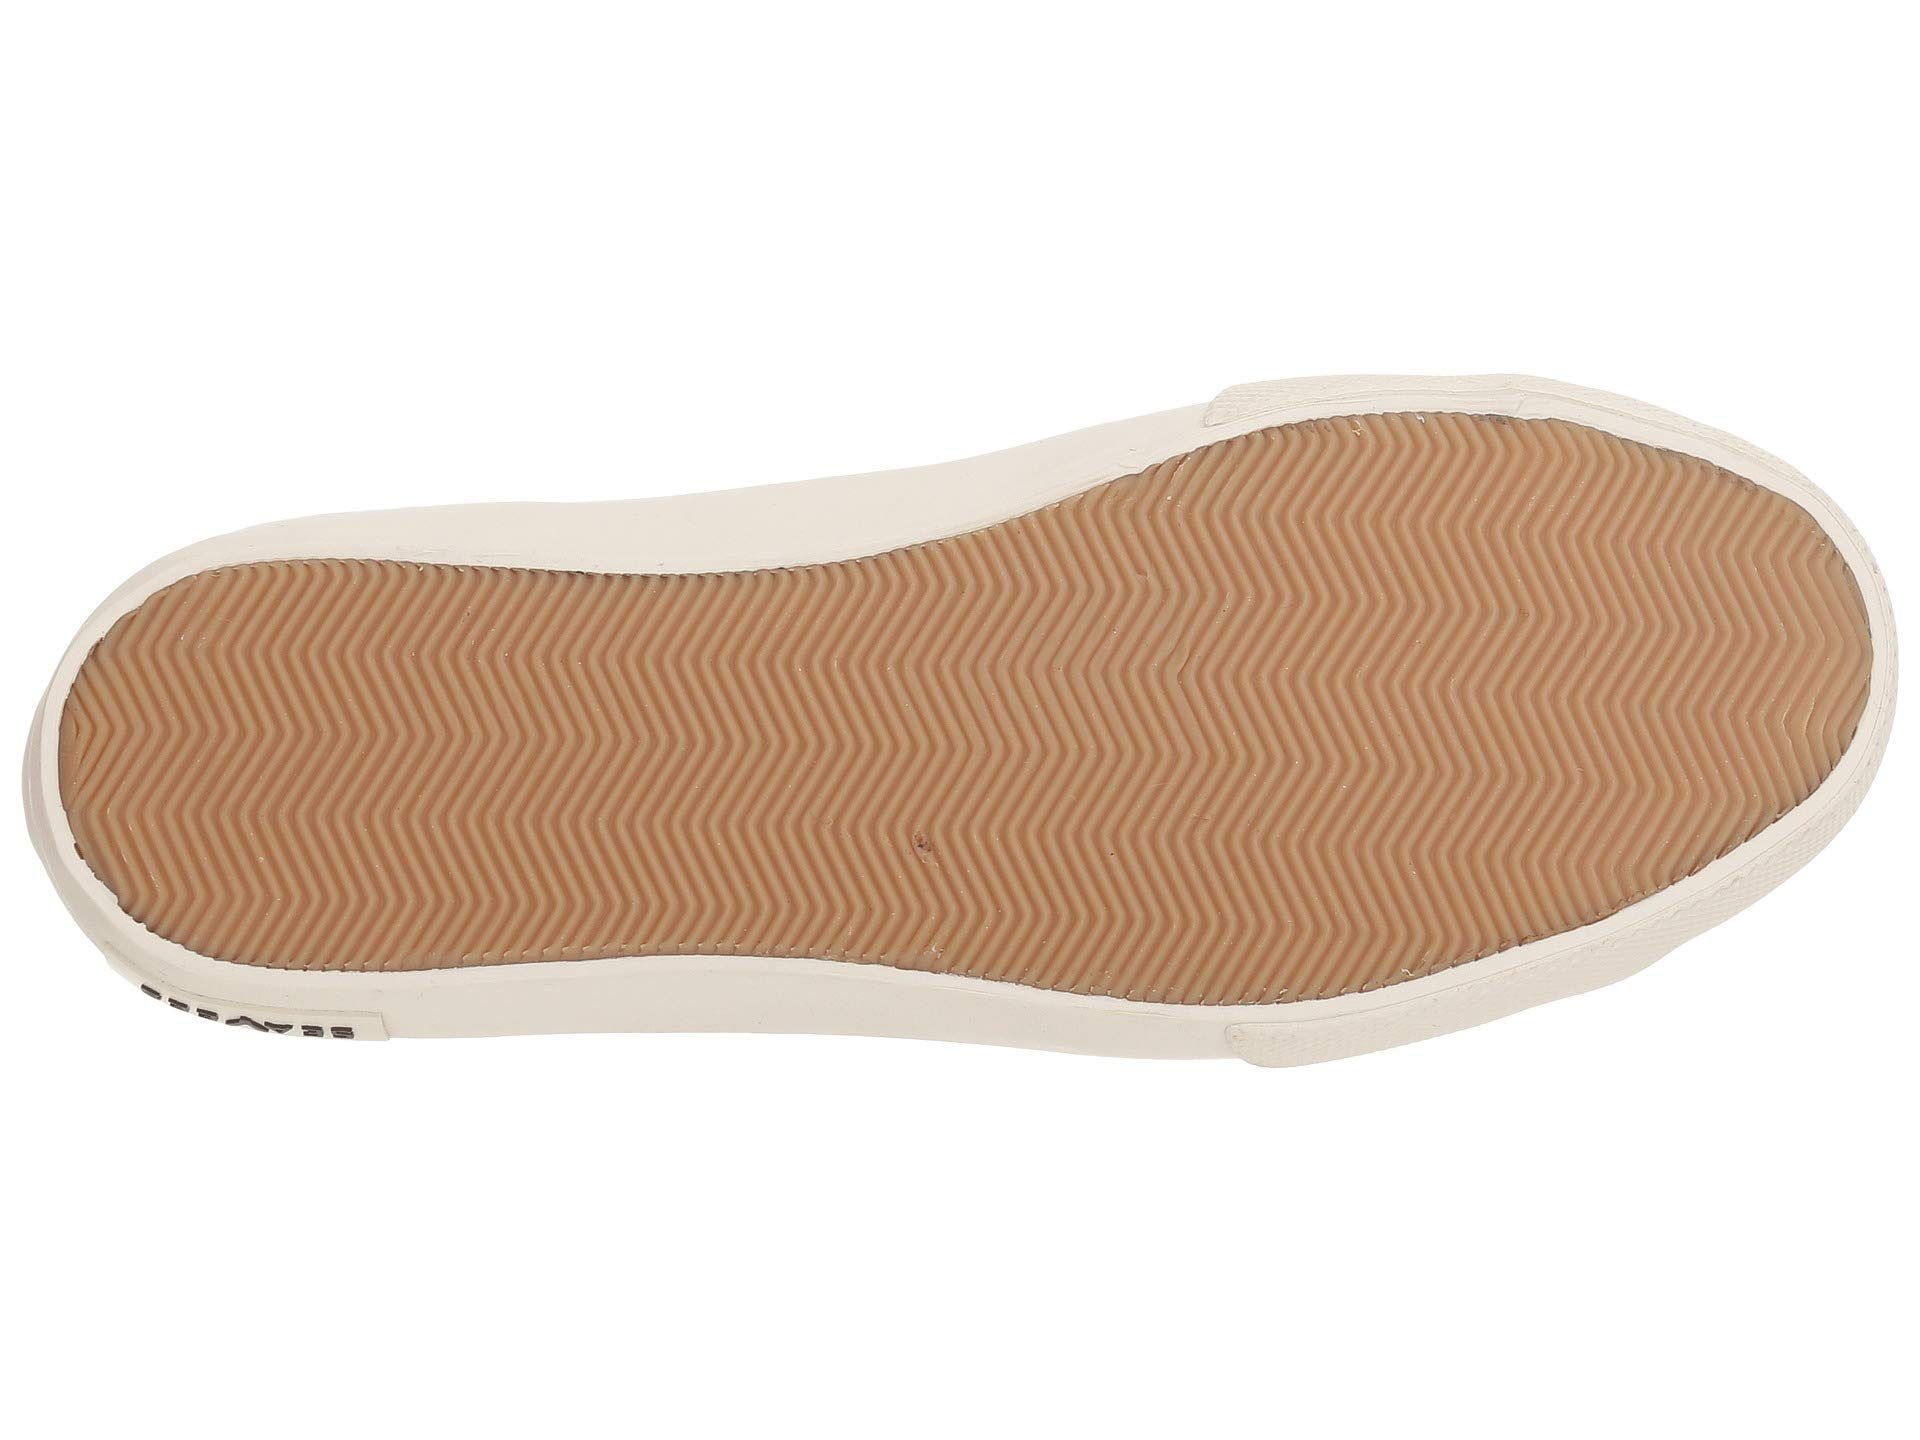chevron: (519, 563, 887, 912)
